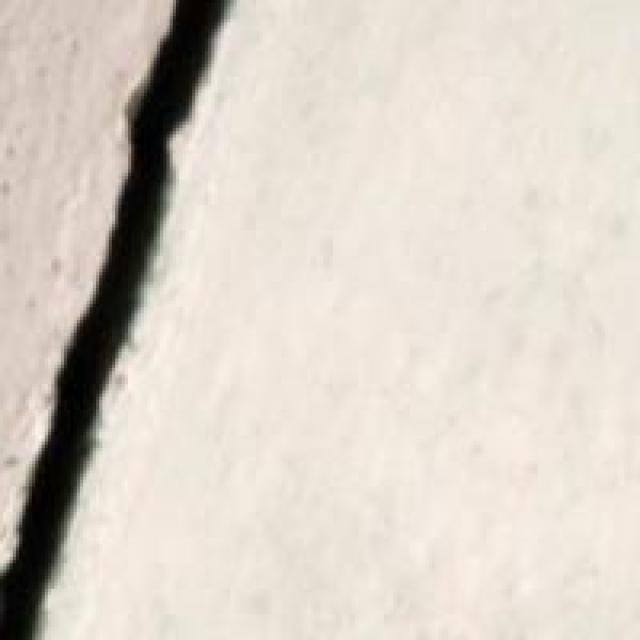Crack: (0, 0, 262, 637)
